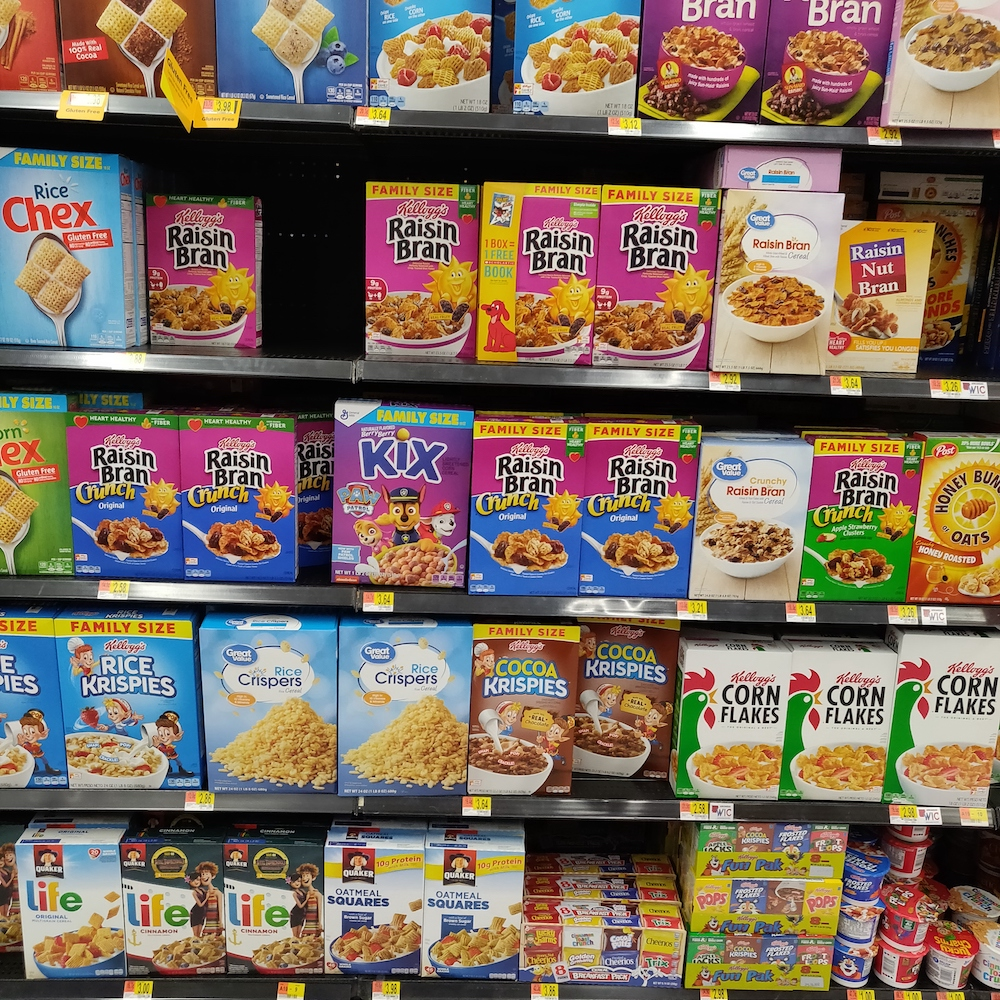Kix Berry -568919964: (338, 429, 476, 587)
